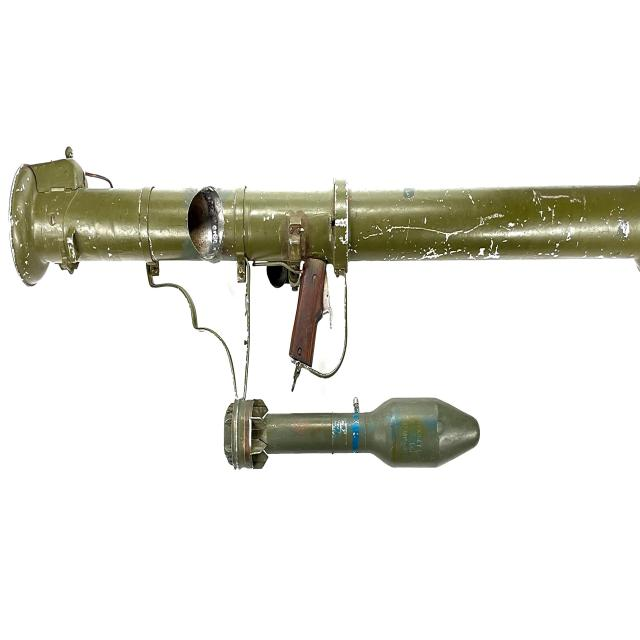Weapon: (9, 153, 640, 347)
